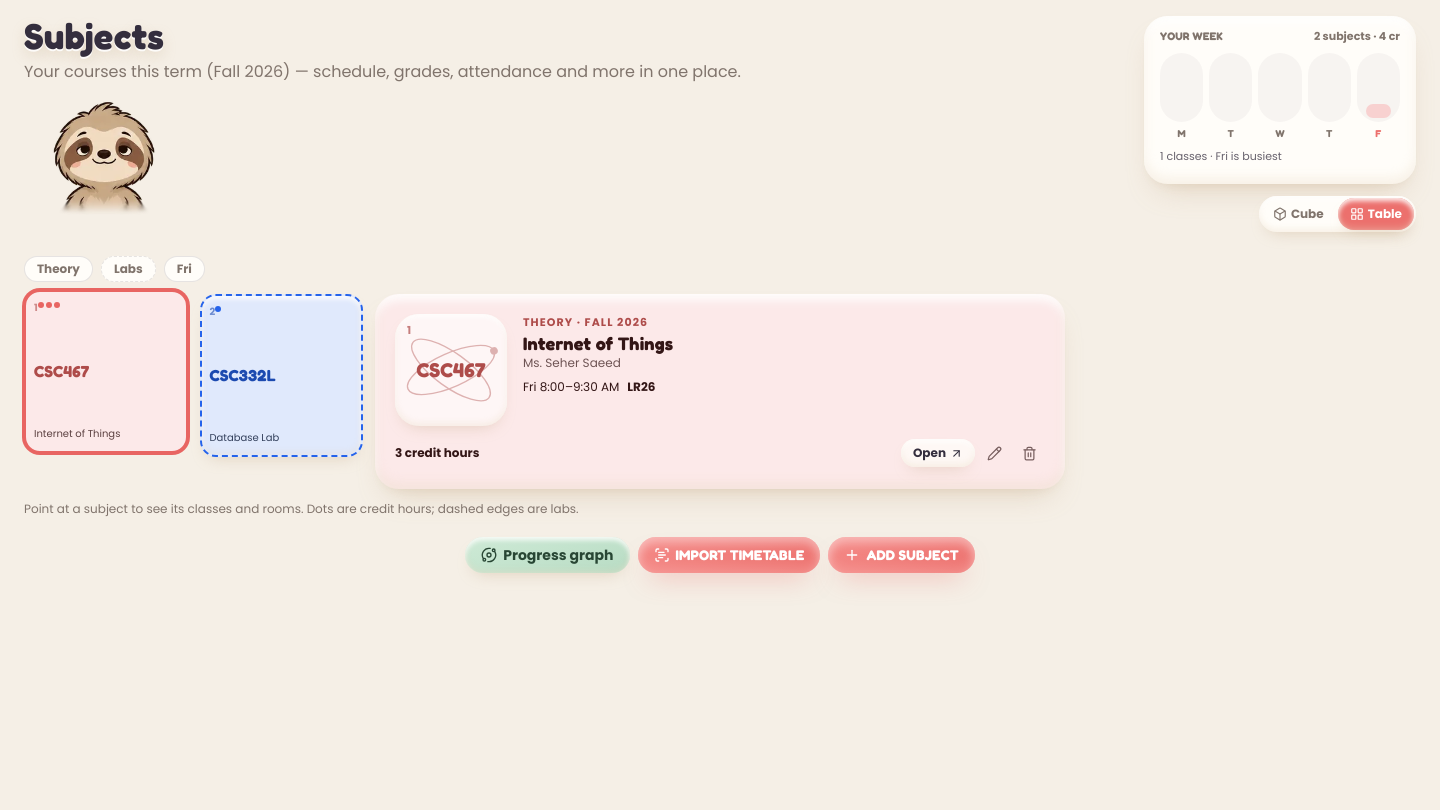
Test: the Add subject button in the table header opens the form
Click the button "Add subject" at (902, 555), box [828, 537, 975, 573]
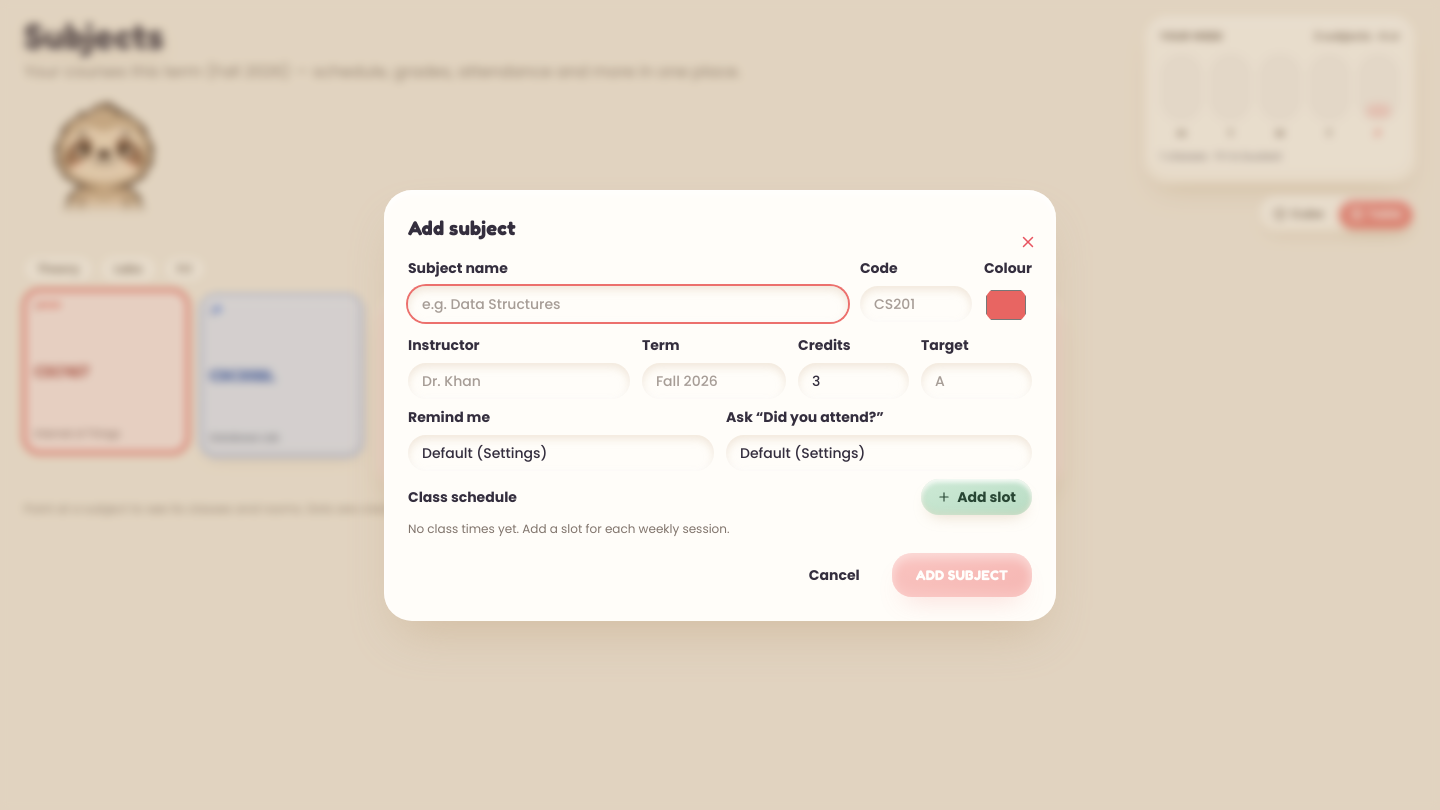
Expected: the field with placeholder "e.g. Data Structures" is shown, [408, 286, 848, 322]
